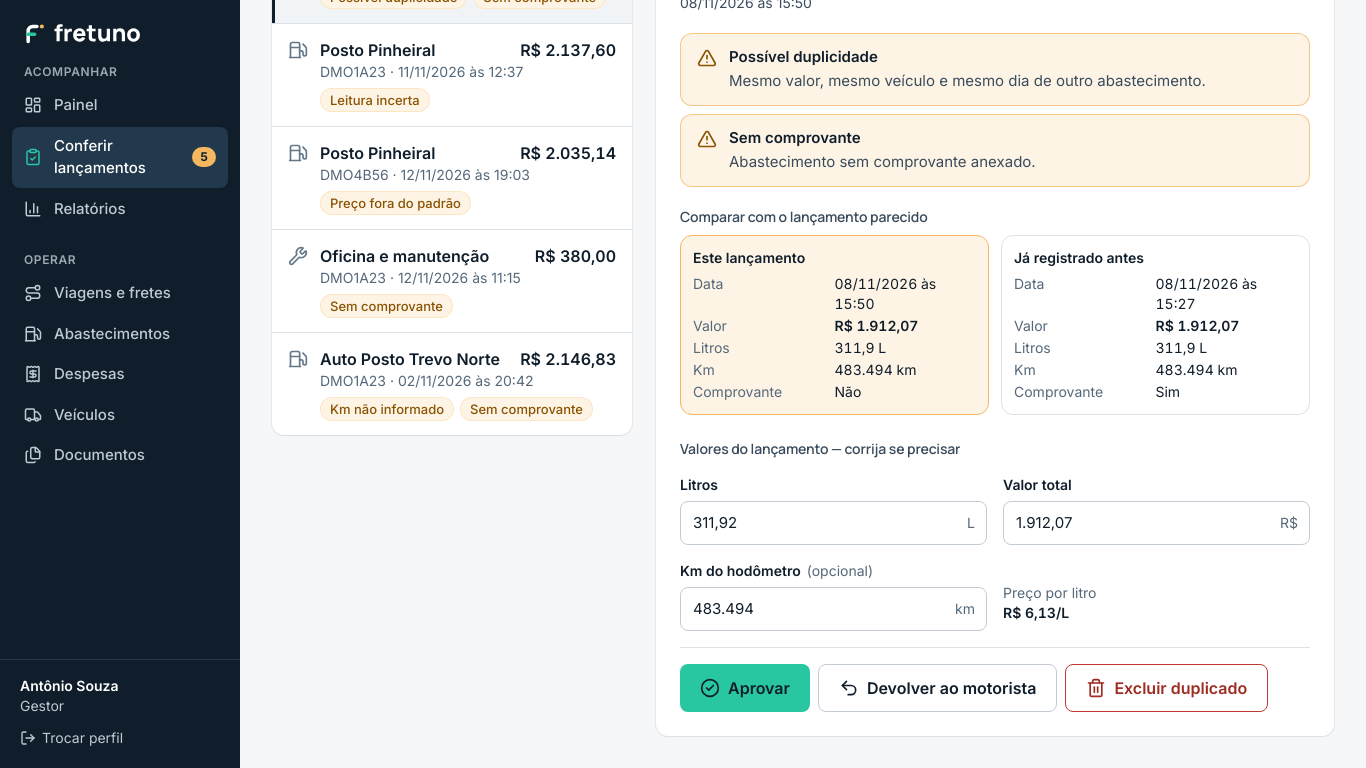
Test case: Gestor › devolver ao motorista exige motivo
Later steps or results of the test are not shown.
(page scrolled)
Click the button "Devolver ao motorista": (938,688) x1=818 y1=664 x2=1057 y2=712
(page scrolled)
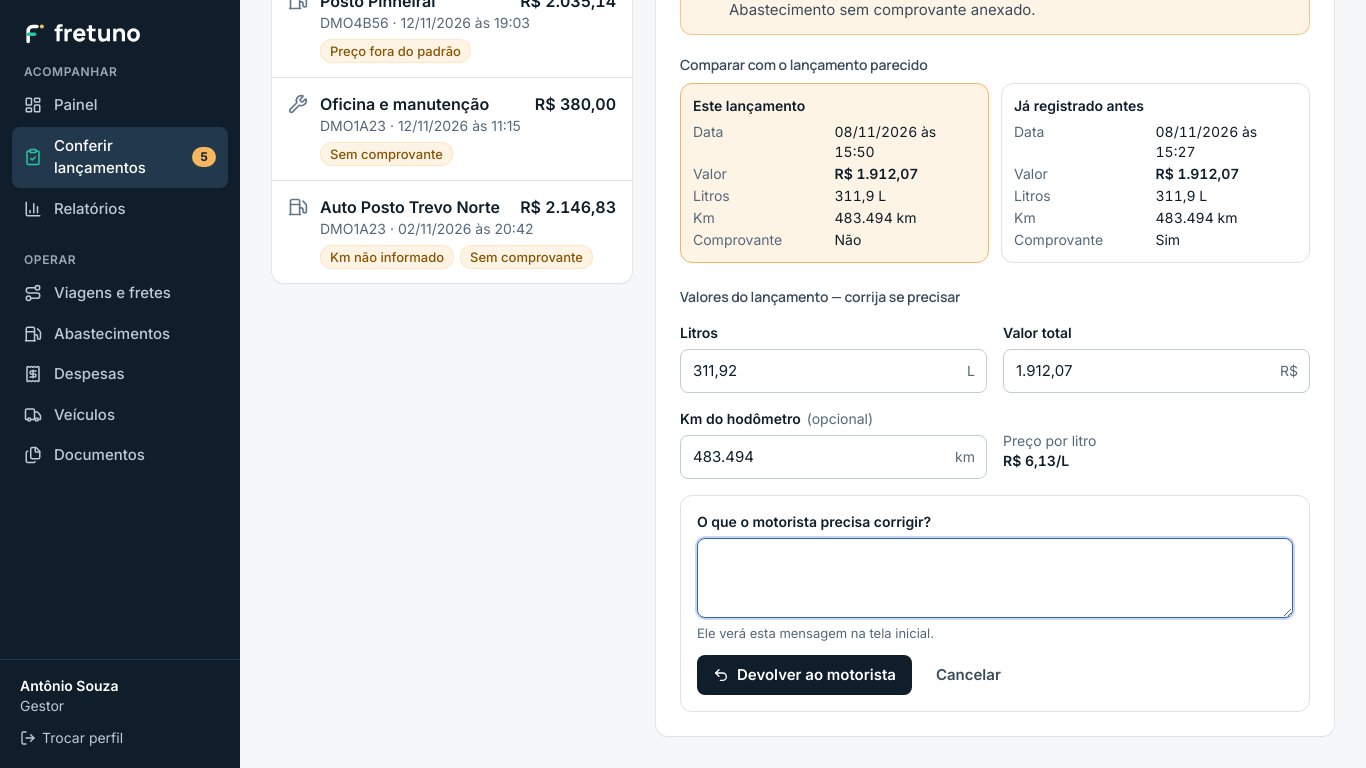
Click the button "Devolver ao motorista": (804,675) x1=697 y1=655 x2=912 y2=695
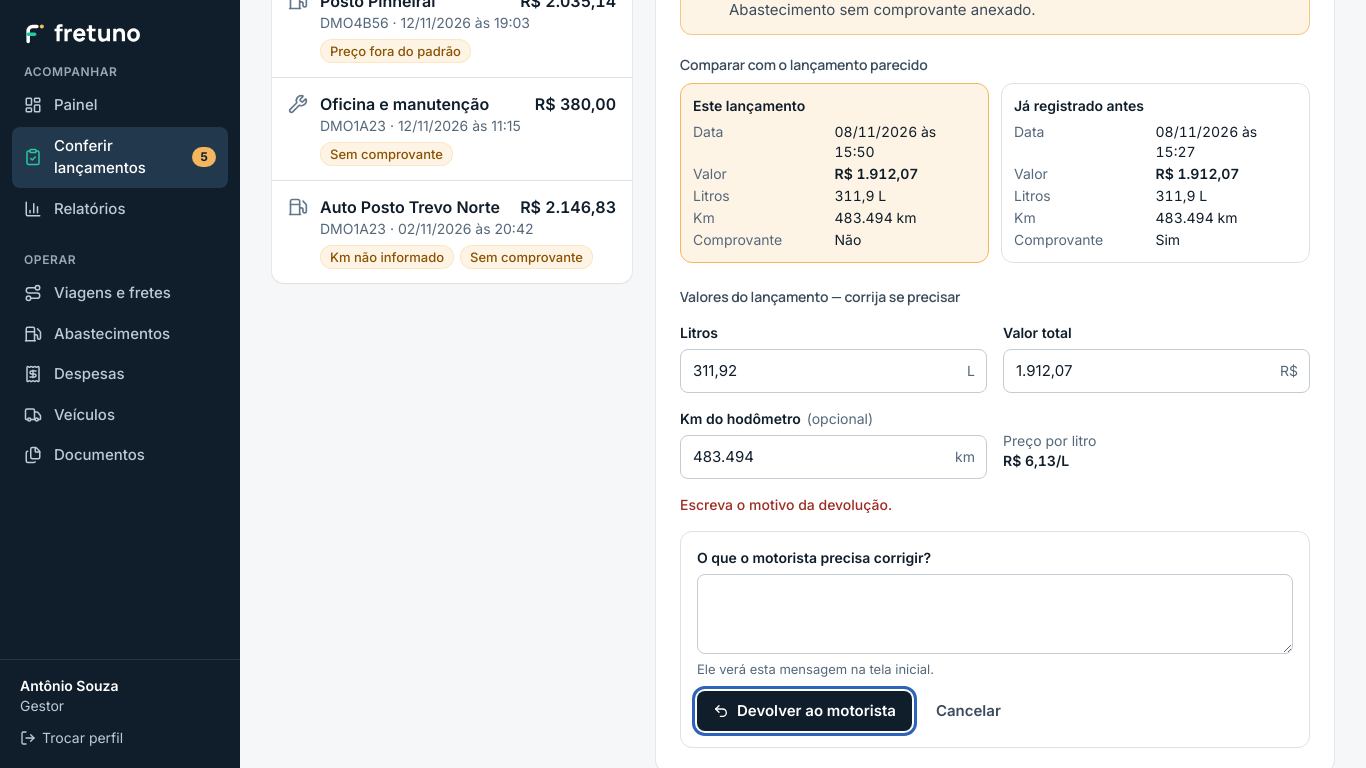
Expected: the text "Escreva o motivo da devolução." is shown, x1=680 y1=496 x2=892 y2=512
